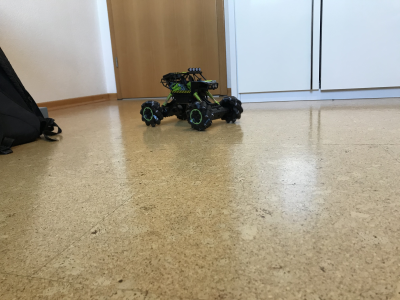remote control car: (138, 63, 245, 132)
